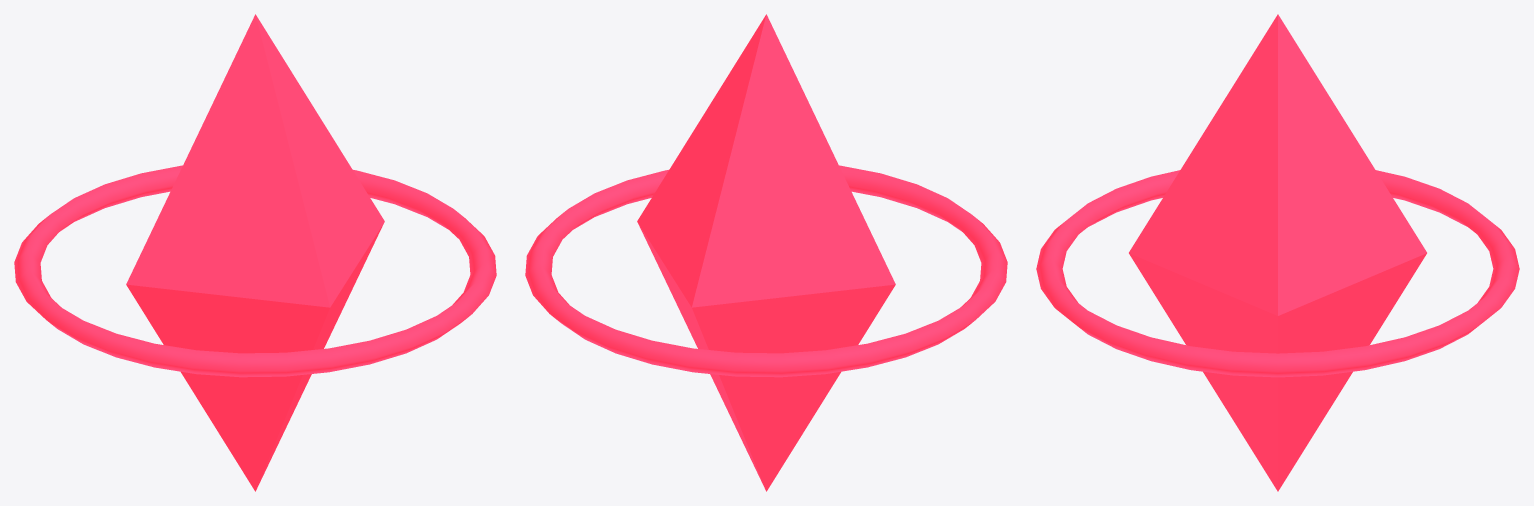
Rendered from kb_marker_red.glb.
3 renders of one model, left to right at view 1: azimuth 30°, elevation 25°; view 2: azimuth 150°, elevation 25°; view 3: azimuth 270°, elevation 25°, orthographic.
Visible parts, largest first — view 1: skin; view 2: skin; view 3: skin.
Boxes of the visible parts, x1,y1,x2,y2 form: skin: (14, 14, 496, 491); skin: (525, 14, 1007, 491); skin: (1036, 14, 1519, 491).
Bounding box in the file's own units: 0.55 × 0.6 × 0.55.
